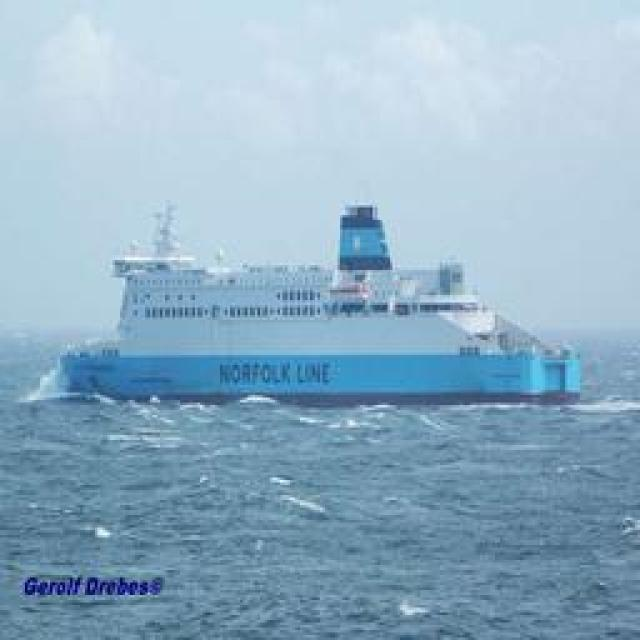CIV_Ship: (34, 192, 604, 416)
